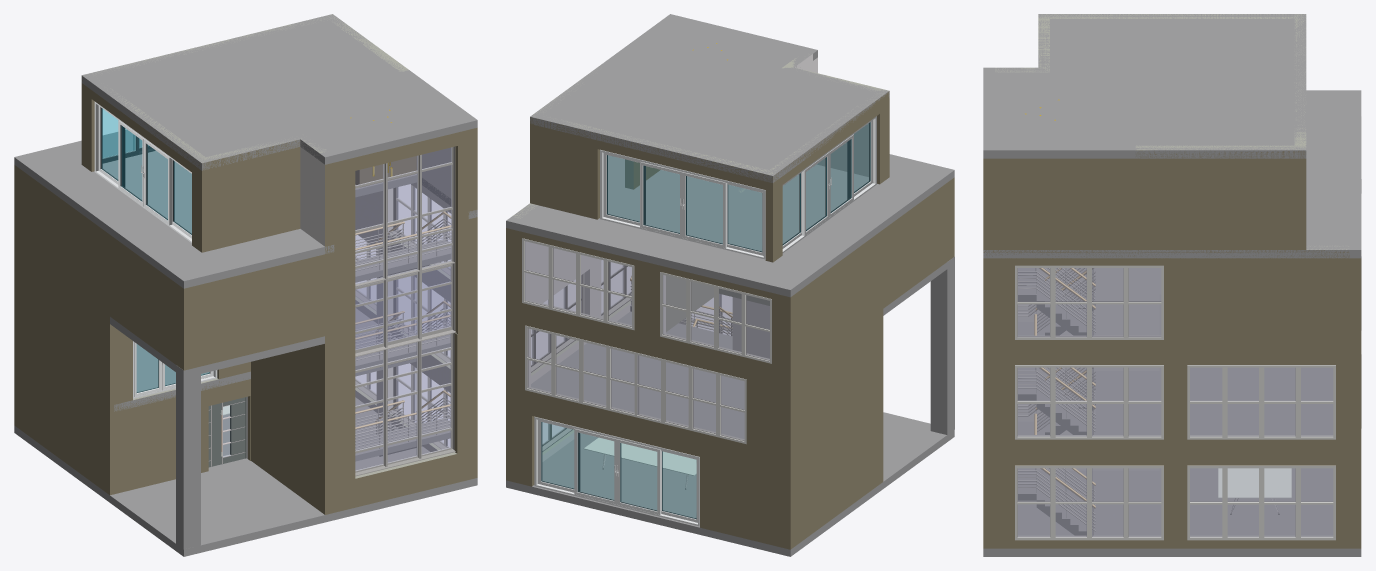
File: house.glb
The picture shows the model from 3 angles, left to right: view 1: azimuth 30°, elevation 25°; view 2: azimuth 150°, elevation 25°; view 3: azimuth 270°, elevation 25°; orthographic projection. The views are drawn at different scales.
Parts seen in each view (by area): view 1: Wall Murs <254511 Ext. Parpaing 20 + Isolant 10<, FamilyInstance Portes Doors_GEALAN_S9000_Sliding_Door_Scheme; view 2: Wall Murs <254511 Ext. Parpaing 20 + Isolant 10<, FamilyInstance Portes Doors_GEALAN_S9000_Sliding_Door_Scheme; view 3: Wall Murs <254511 Ext. Parpaing 20 + Isolant 10<, FamilyInstance Portes Doors_GEALAN_S9000_Sliding_Door_Scheme.
Part boxes in pixels (x1,y1,x2,y2): Wall Murs <254511 Ext. Parpaing 20 + Isolant 10<: (14, 14, 477, 556); FamilyInstance Portes Doors_GEALAN_S9000_Sliding_Door_Scheme: (101, 108, 451, 470); Wall Murs <254511 Ext. Parpaing 20 + Isolant 10<: (506, 14, 954, 556); FamilyInstance Portes Doors_GEALAN_S9000_Sliding_Door_Scheme: (525, 123, 870, 518); Wall Murs <254511 Ext. Parpaing 20 + Isolant 10<: (983, 14, 1361, 556); FamilyInstance Portes Doors_GEALAN_S9000_Sliding_Door_Scheme: (1018, 268, 1332, 536).
Size of the model in its own units: 10337 by 12250 by 10333.
Materials: 2 (2 with a texture image).
